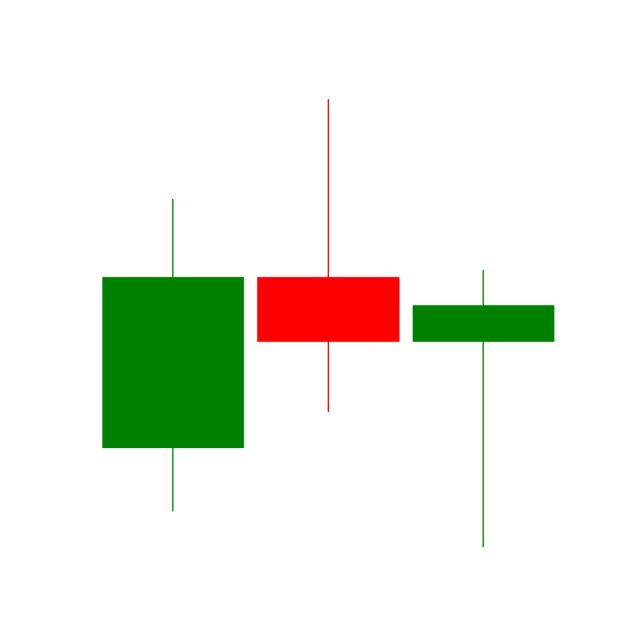Dragonfly Doji: (408, 264, 560, 552)
Shooting Star: (256, 95, 401, 415)
spinning top: (100, 194, 248, 513)
